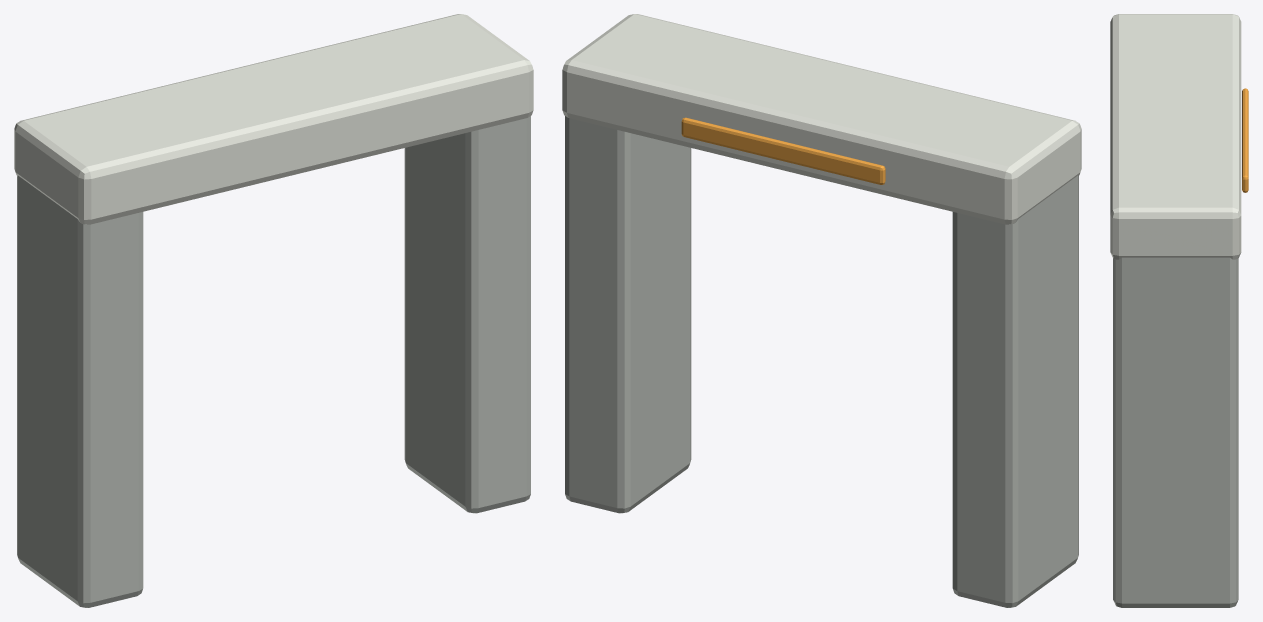
File: gate.glb
3 views of the same model, side by side, from view 1: azimuth 30°, elevation 25°; view 2: azimuth 150°, elevation 25°; view 3: azimuth 270°, elevation 25° (orthographic). The views are drawn at different scales.
Parts seen in each view (by area): view 1: Gate lintel, Gate pillar, Gate pillar.001; view 2: Gate lintel, Gate pillar, Gate pillar.001, Gate marking; view 3: Gate pillar.001, Gate lintel, Gate marking.
Part boxes in pixels (box(x1,y1,x2,y2)): Gate lintel: box(14, 14, 533, 224); Gate pillar: box(17, 175, 143, 607); Gate pillar.001: box(404, 116, 530, 513); Gate lintel: box(562, 14, 1081, 224); Gate pillar: box(952, 175, 1078, 607); Gate pillar.001: box(565, 116, 691, 513); Gate marking: box(681, 117, 885, 184); Gate pillar.001: box(1113, 257, 1238, 607); Gate lintel: box(1110, 14, 1241, 259); Gate marking: box(1242, 88, 1248, 192).
Size of the model in its own units: 2.46 by 2.29 by 0.7175.
